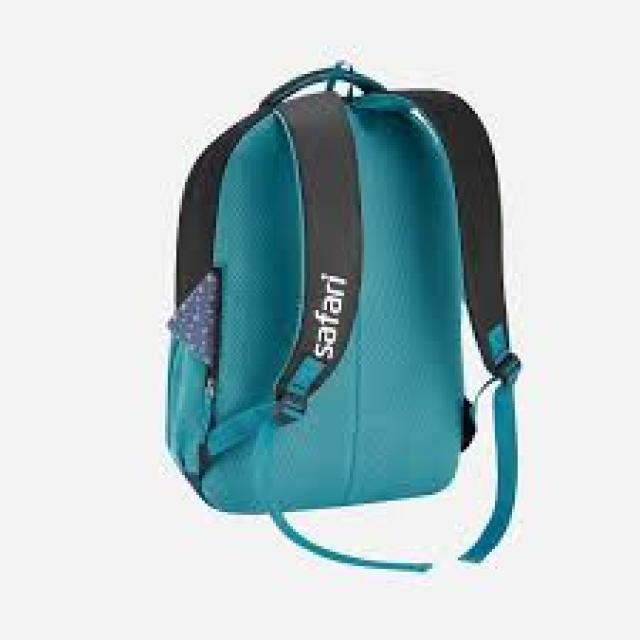backpack: (163, 58, 522, 573)
